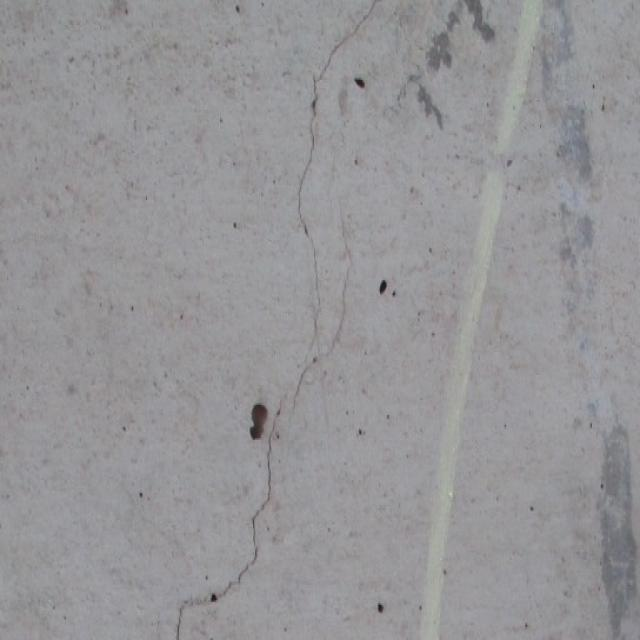Longitudinal: (220, 388, 281, 596), (168, 594, 186, 640)
Network: (287, 2, 375, 422)
Transverse: (190, 596, 218, 613)
